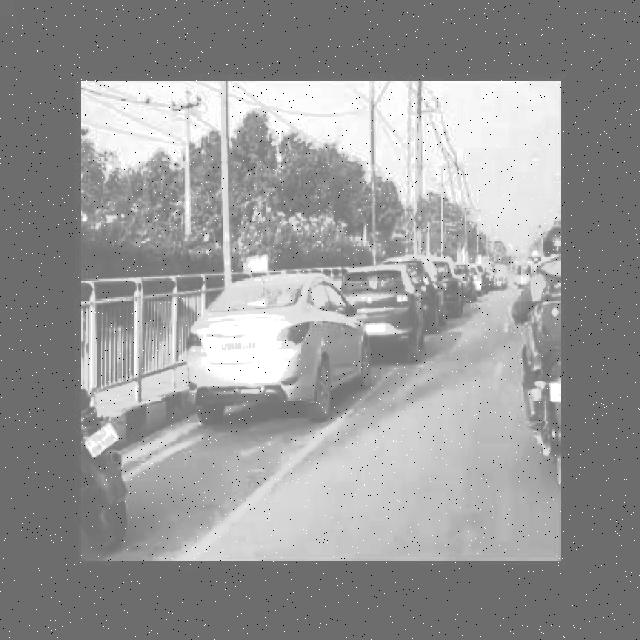Car: (181, 263, 364, 441), (350, 258, 426, 362), (417, 248, 437, 334), (440, 254, 469, 311)
